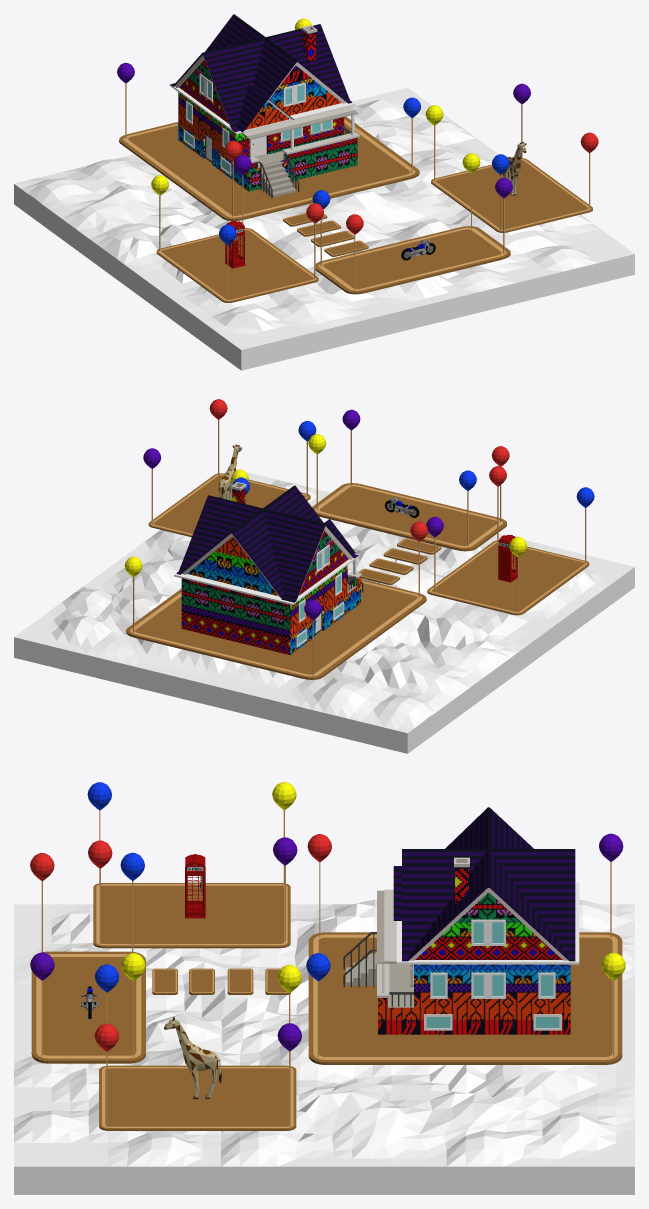
3 views of the same model, one above another, from view 1: azimuth 30°, elevation 25°; view 2: azimuth 150°, elevation 25°; view 3: azimuth 270°, elevation 25° (orthographic). The views are drawn at different scales.
Parts seen in each view (by area): view 1: Cube.013, Cube.966, OBJRANDOM_PHONEBOOTH, ANIMAL_JIRAFA; view 2: Cube.013, Cube.966, OBJRANDOM_PHONEBOOTH, ANIMAL_JIRAFA; view 3: Cube.013, Cube.966, ANIMAL_JIRAFA, OBJRANDOM_PHONEBOOTH.
Part boxes in pixels (x1,y1,x2,y2): Cube.013: [14, 18, 634, 370]; Cube.966: [169, 14, 360, 198]; OBJRANDOM_PHONEBOOTH: [225, 221, 245, 268]; ANIMAL_JIRAFA: [503, 142, 526, 195]; Cube.013: [14, 399, 634, 753]; Cube.966: [174, 482, 363, 655]; OBJRANDOM_PHONEBOOTH: [498, 535, 517, 582]; ANIMAL_JIRAFA: [218, 444, 242, 500]; Cube.013: [14, 782, 634, 1194]; Cube.966: [343, 807, 579, 1034]; ANIMAL_JIRAFA: [164, 1017, 221, 1099]; OBJRANDOM_PHONEBOOTH: [185, 854, 205, 918].
Size of the model in its own units: 4000 by 1696 by 4000.
Materials: 44 (5 with a texture image).
